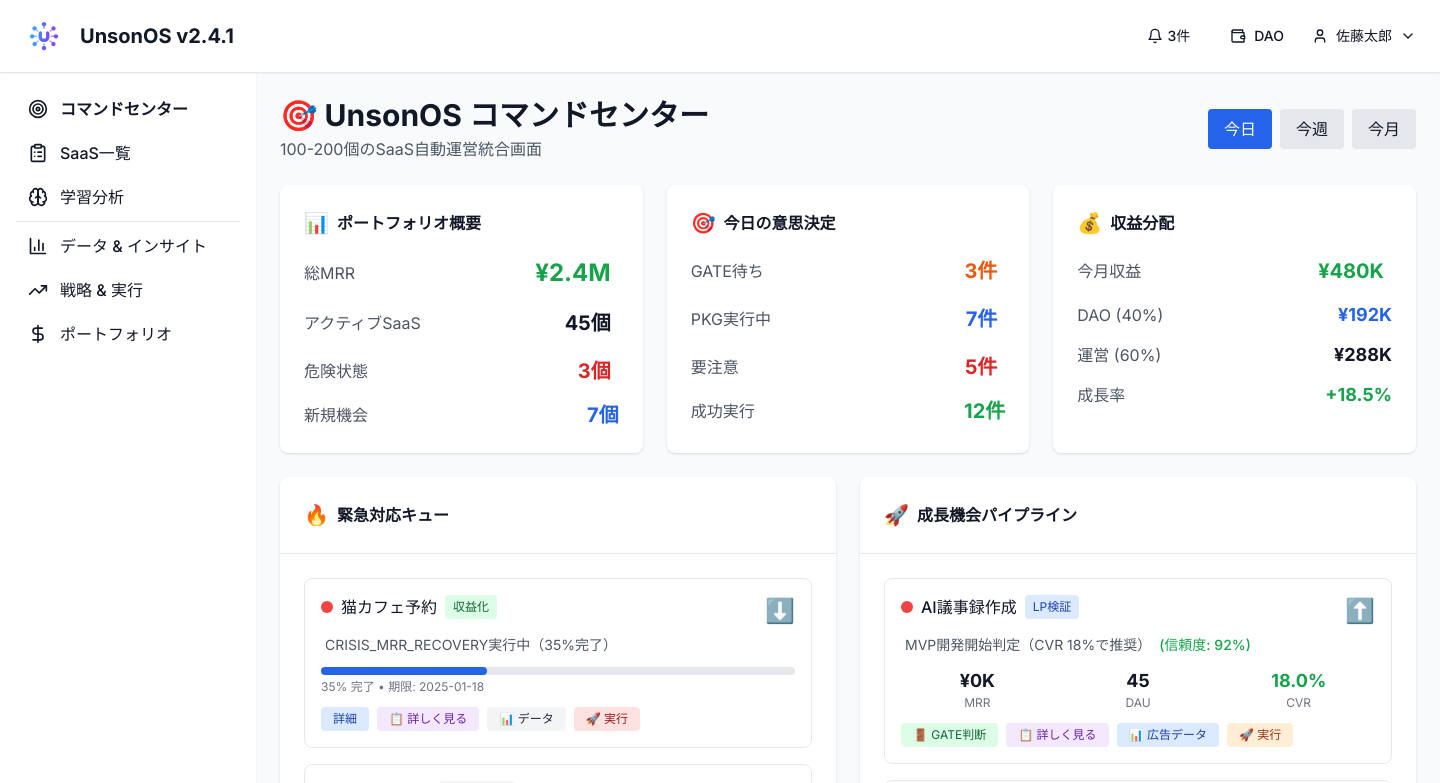
Dashboard › データビュータブのコンテンツ › TimeSeriesGridとMetricsGridを表示する
Click the button "データ & インサイト". click: (128, 246)
box: [16,226,240,266]
(page scrolled)
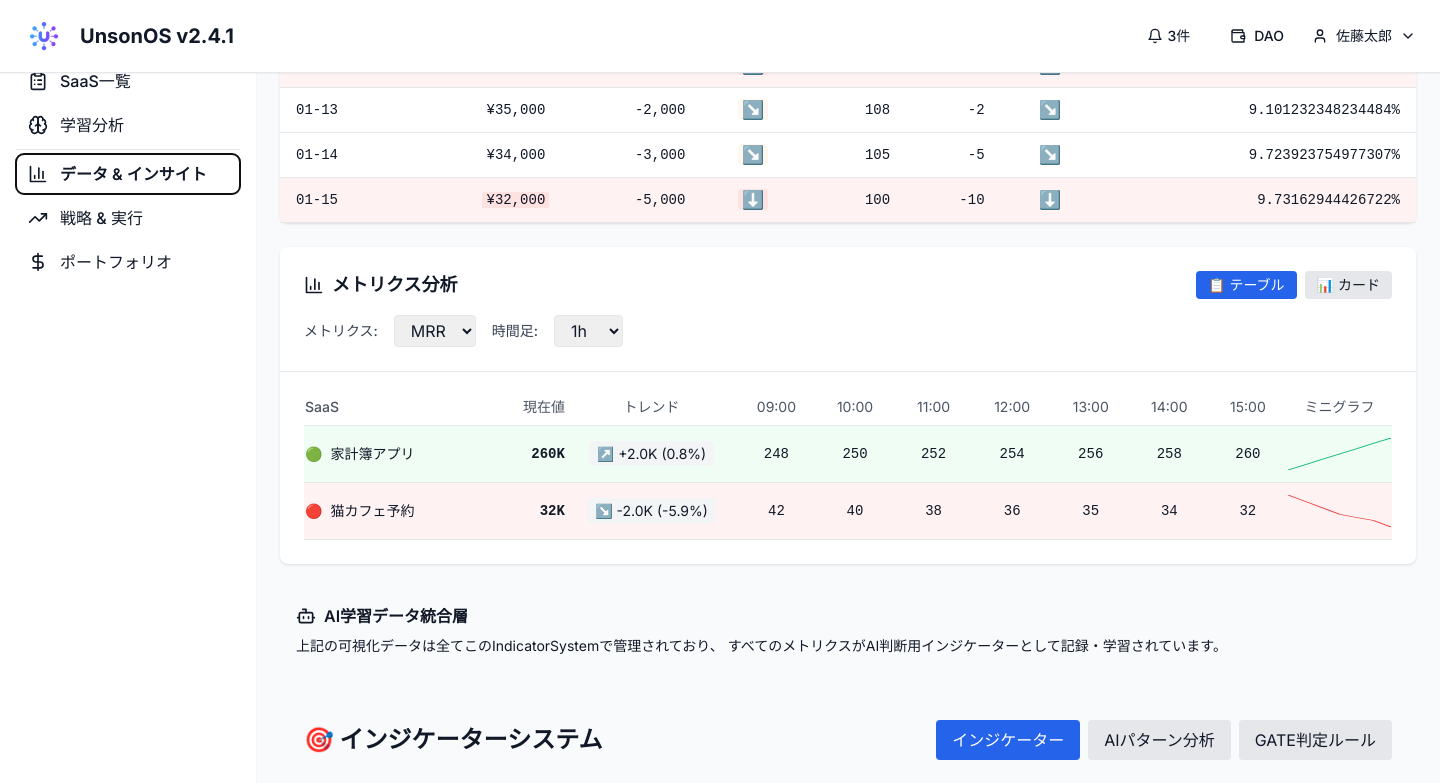
Expected: the element "メトリクス分析" is shown, [280,247,1416,564]
